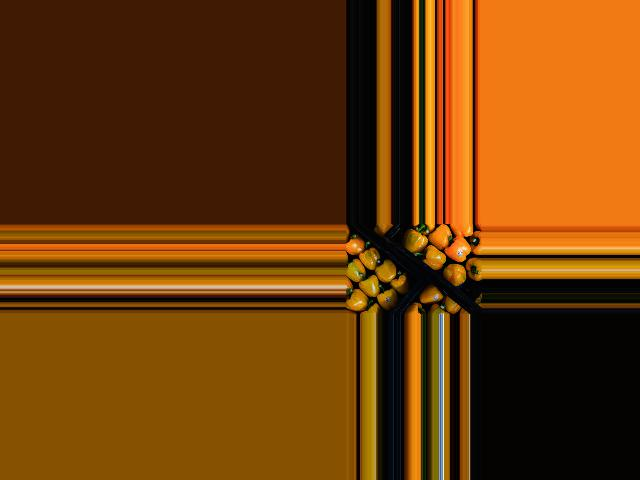bell_pepper: (346, 291, 373, 315)
